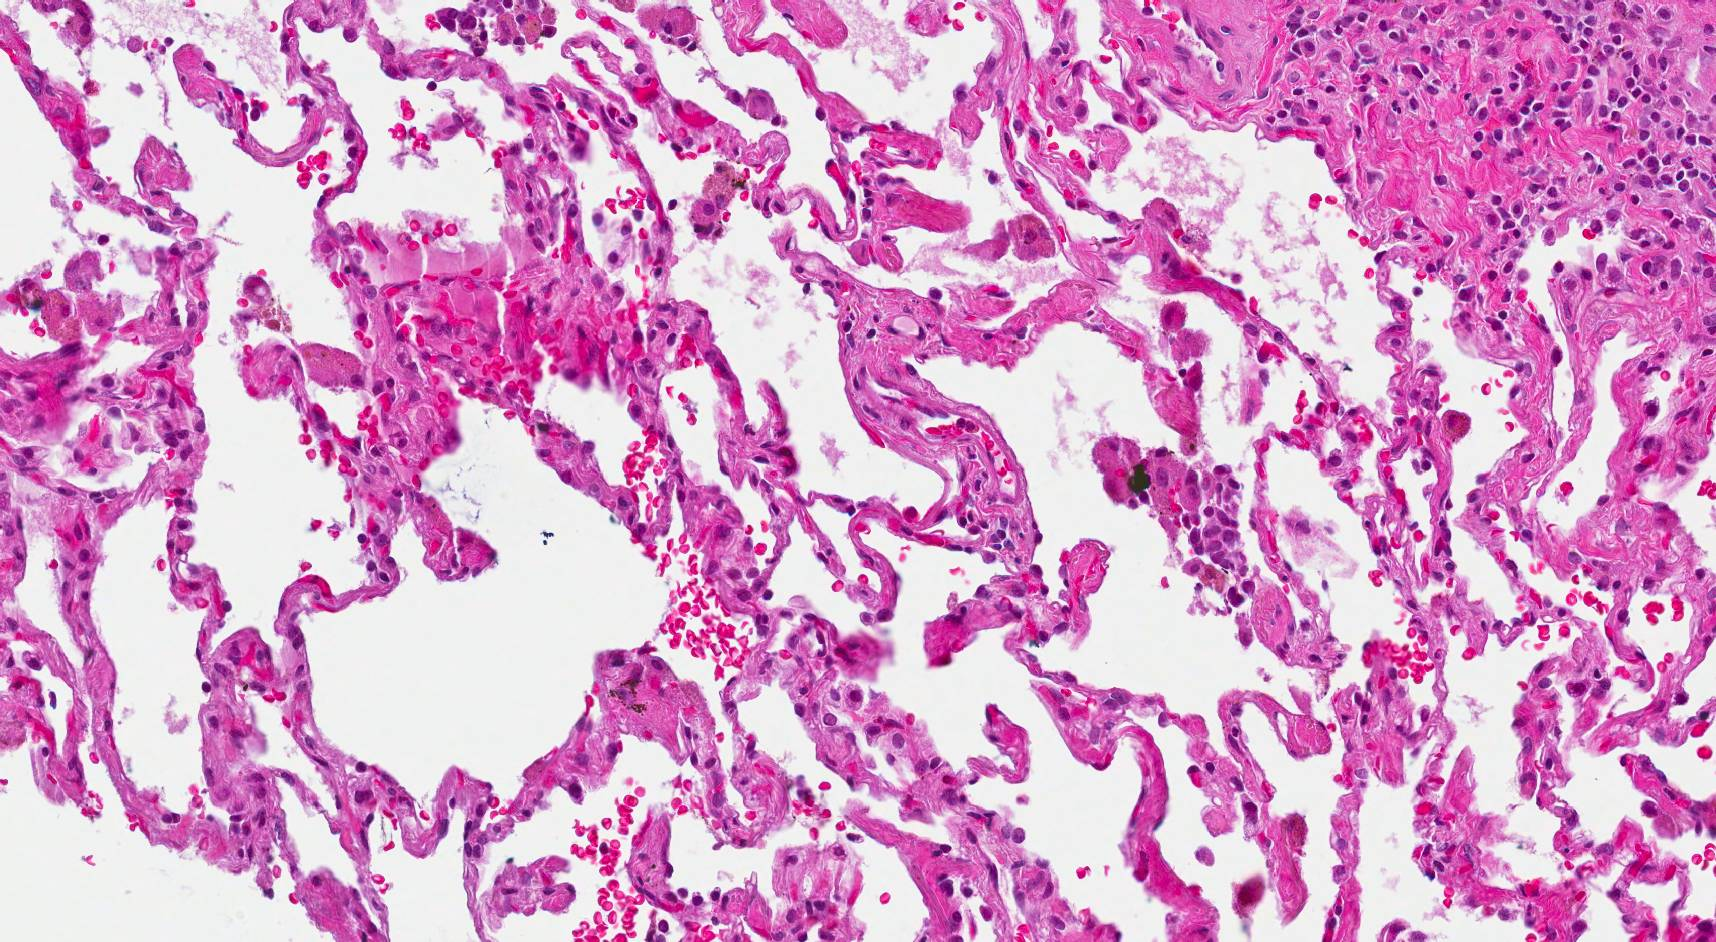stas: (1182, 462, 1263, 609)
